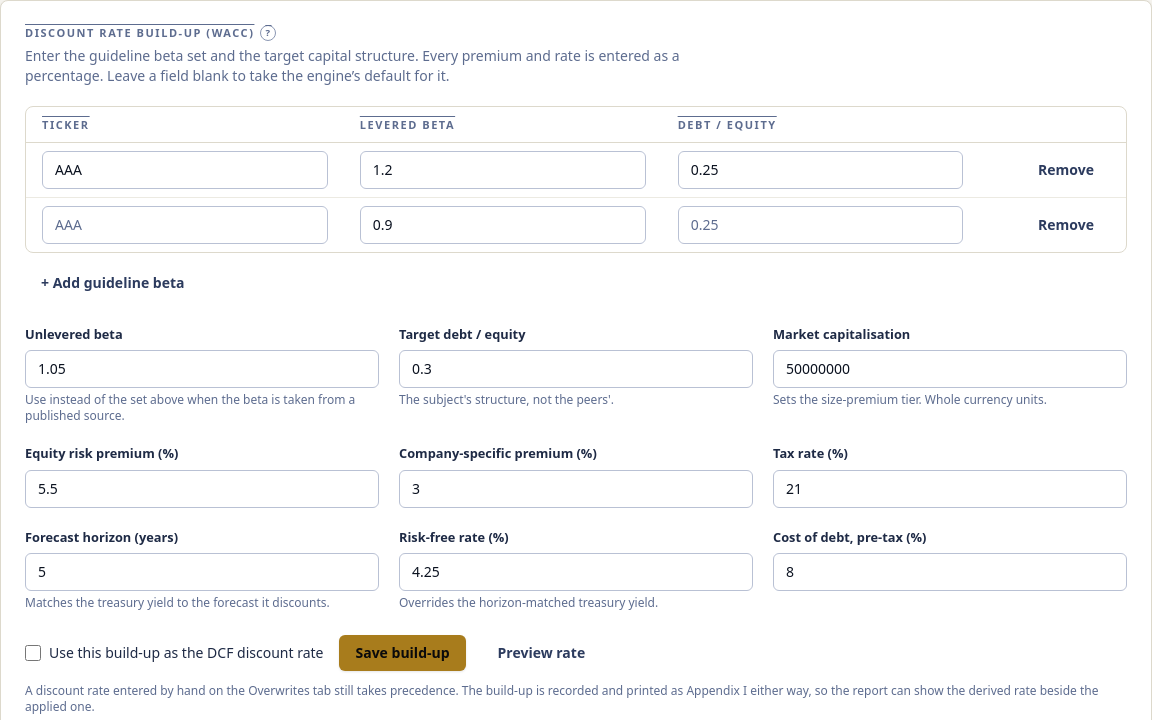
Test case: WaccPanel › editing the guideline set › removes the named row rather than the last one
The image size is (1152, 720).
Click the button with aria-label "Remove peer " at (1066, 170), box [1022, 152, 1110, 188]
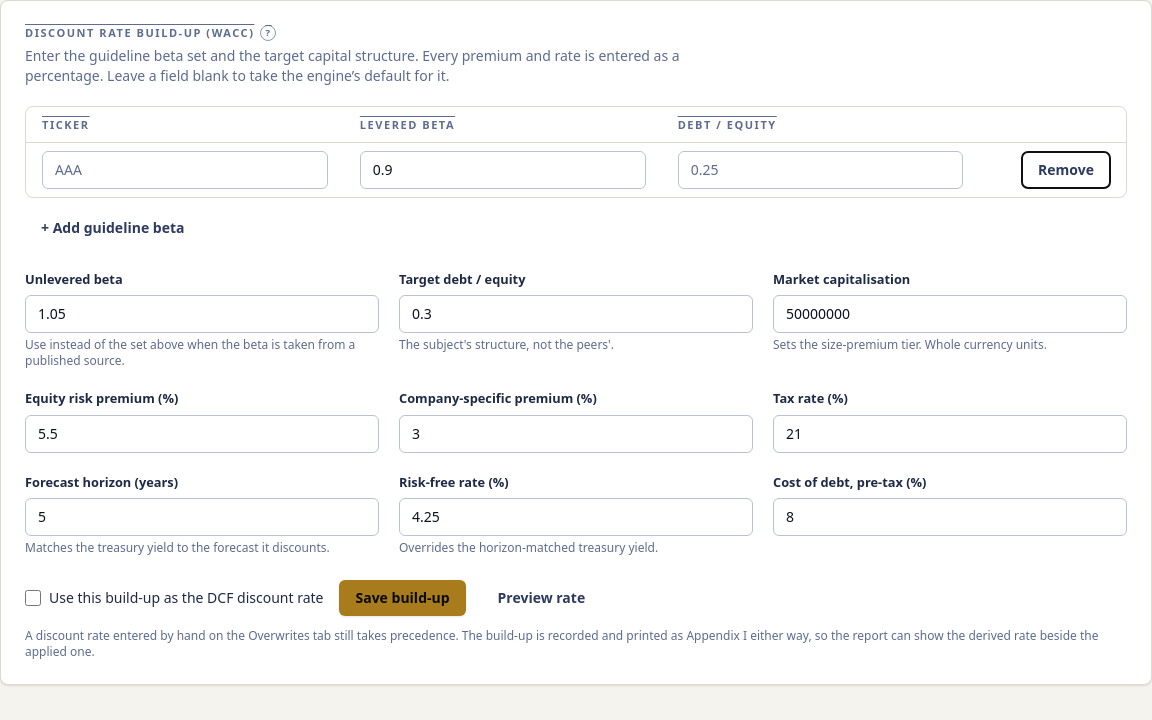
Now the field named "Peer 1 levered beta" holds "0.9", box [360, 151, 646, 189]
